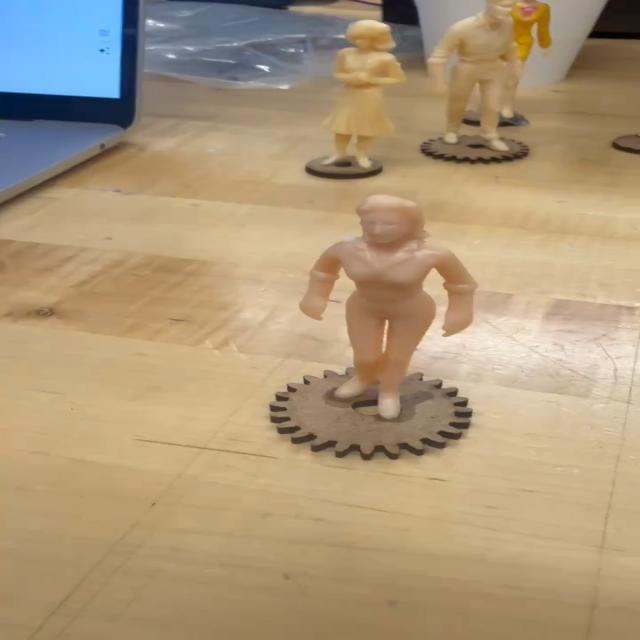Unauthorized: (296, 190, 481, 426)
